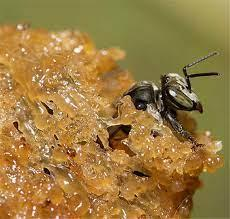Meliponula: (96, 52, 220, 156)
